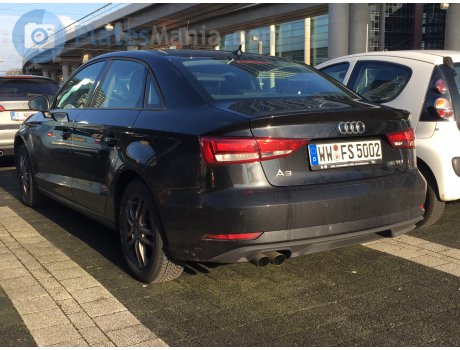License Plates: (309, 137, 384, 162)
